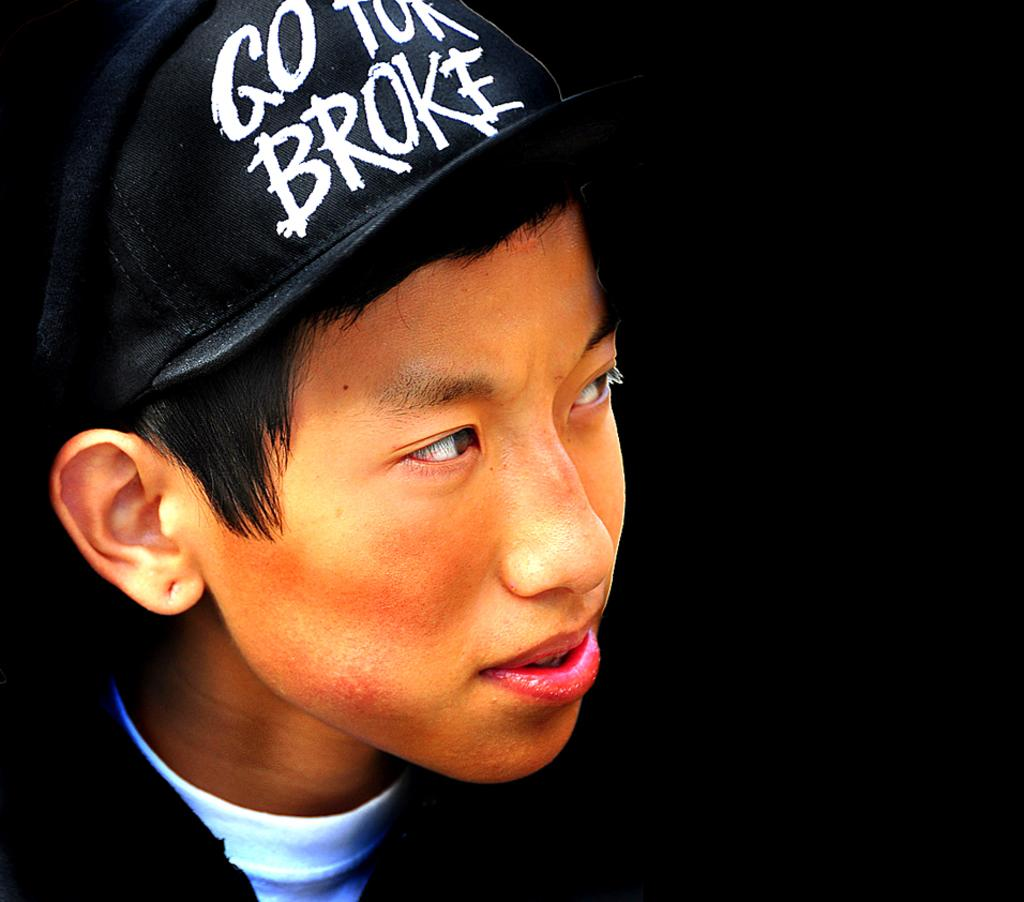Hat: (66, 0, 652, 429)
